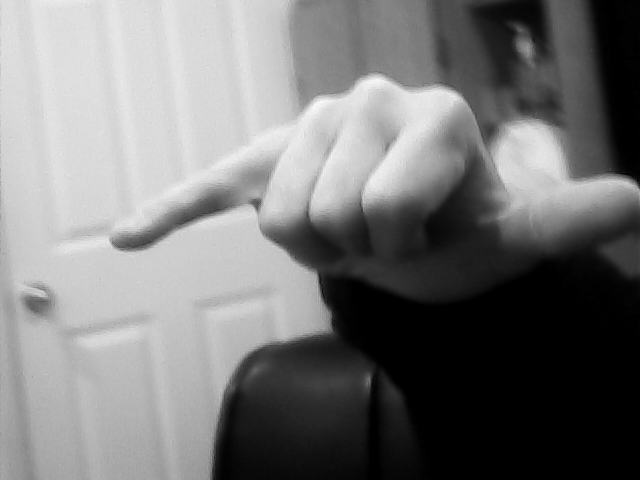aloha: (91, 79, 640, 305)
